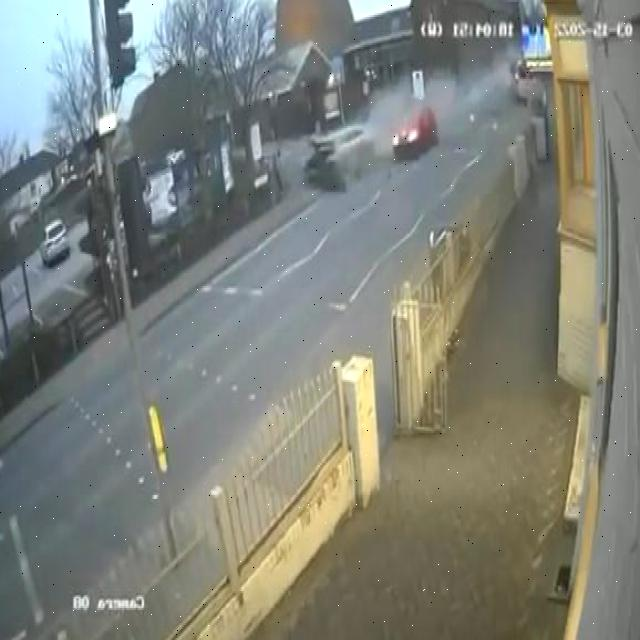accident: (302, 96, 446, 209)
